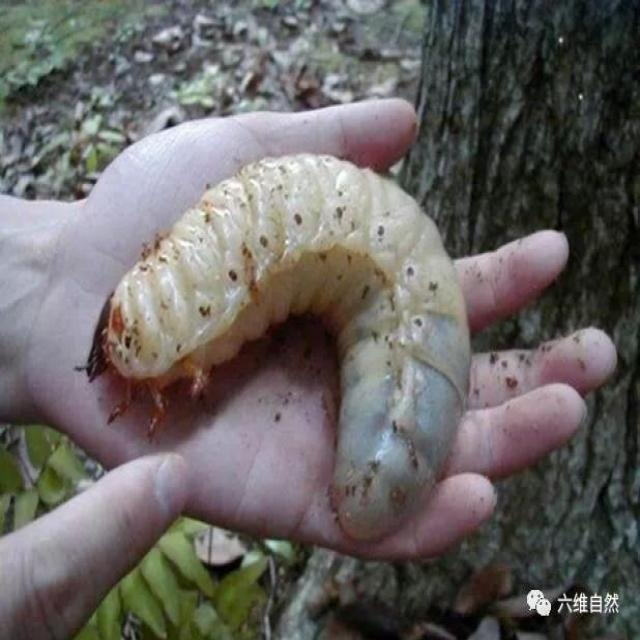Grub-Adult-: (82, 137, 475, 538)
